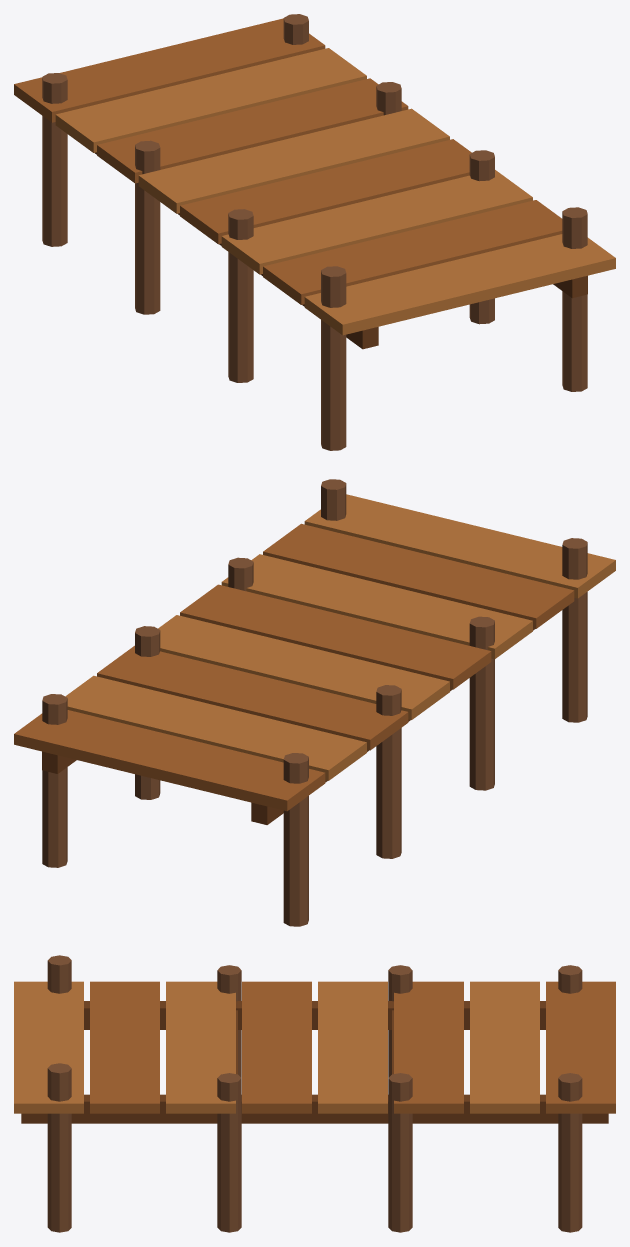
Rendered from jetty.glb.
The picture shows the model from 3 angles, top to bottom: view 1: azimuth 30°, elevation 25°; view 2: azimuth 150°, elevation 25°; view 3: azimuth 270°, elevation 25°; orthographic projection. The views are drawn at different scales.
Parts seen in each view (by area): view 1: jetty; view 2: jetty; view 3: jetty.
Part boxes in pixels (<box>): jetty: <box>14,14,615,450</box>; jetty: <box>14,479,615,926</box>; jetty: <box>14,955,615,1232</box>.
Size of the model in its own units: 2.4 by 1.46 by 5.
